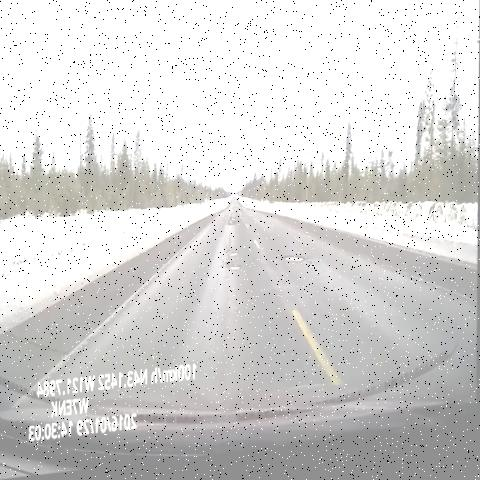pothole: (281, 255, 316, 280), (224, 264, 245, 288), (223, 219, 244, 241), (224, 252, 245, 271)
